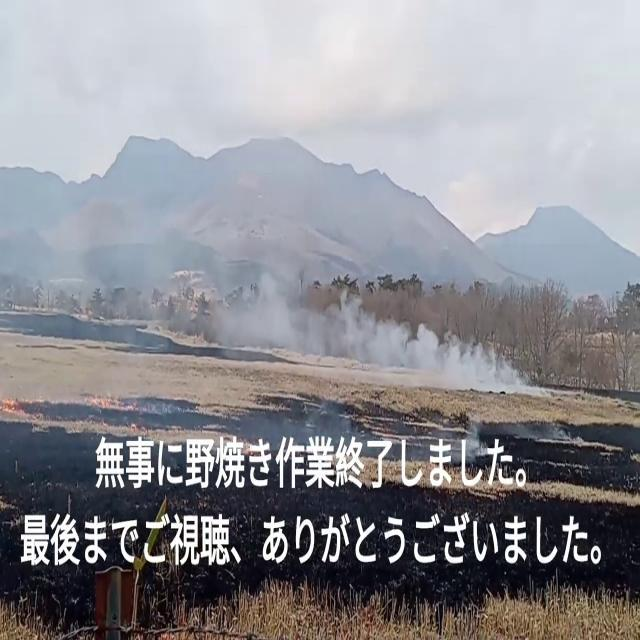Smoke: (215, 248, 513, 388)
